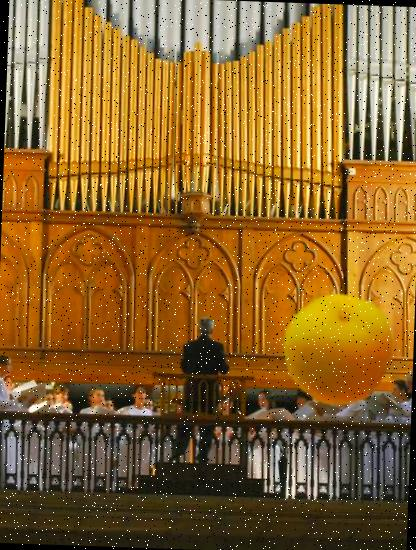Peach: (278, 288, 397, 409)
